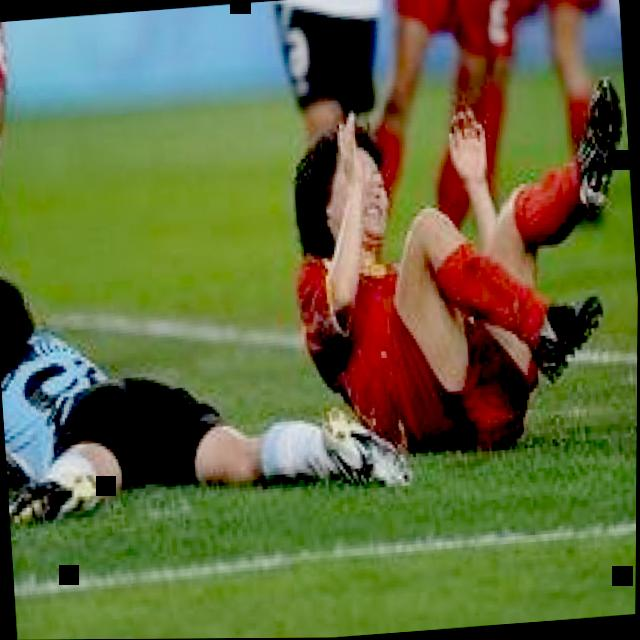Fall-Detected: (0, 229, 403, 533)
